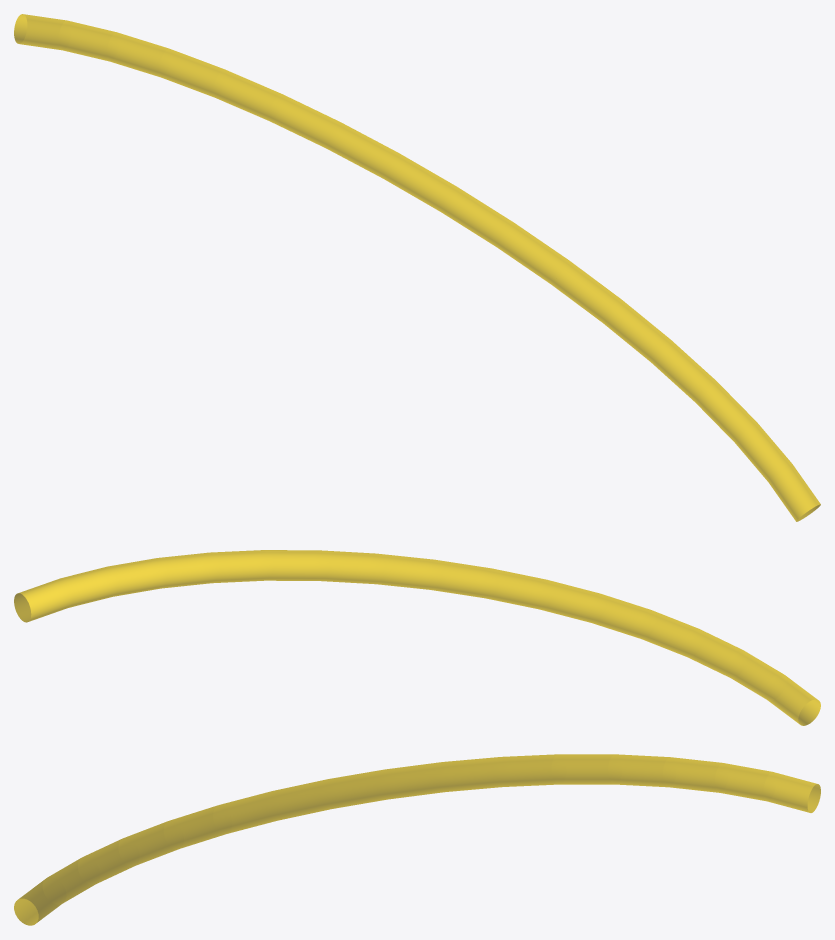
The model's file is Event_75125125_track_54.fbx.
The picture shows the model from 3 angles, top to bottom: view 1: azimuth 90°, elevation 25°; view 2: azimuth 150°, elevation 25°; view 3: azimuth 270°, elevation 25°; orthographic projection.
Parts seen in each view (by area): view 1: Model; view 2: Model; view 3: Model.
Part boxes in pixels (bbox=[...]): Model: bbox=[14, 14, 820, 521]; Model: bbox=[14, 550, 820, 725]; Model: bbox=[14, 754, 820, 925].
Size of the model in its own units: 0.615 by 0.4741 by 1.07.
